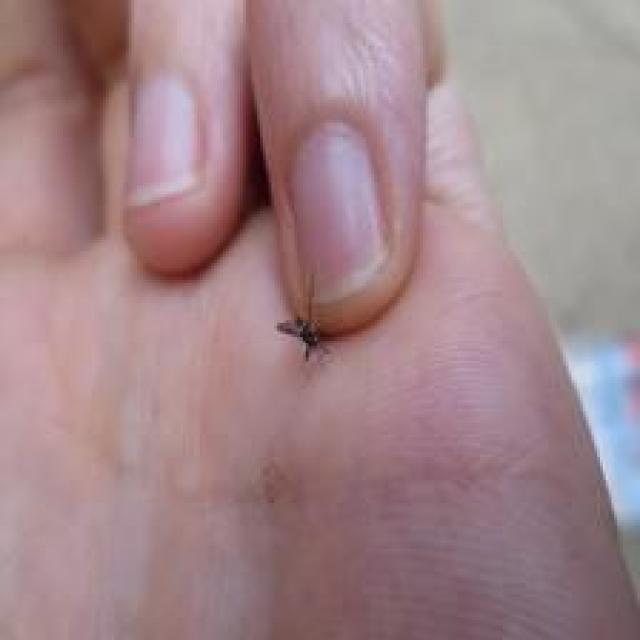Aedes albopictus: (274, 271, 332, 363)
